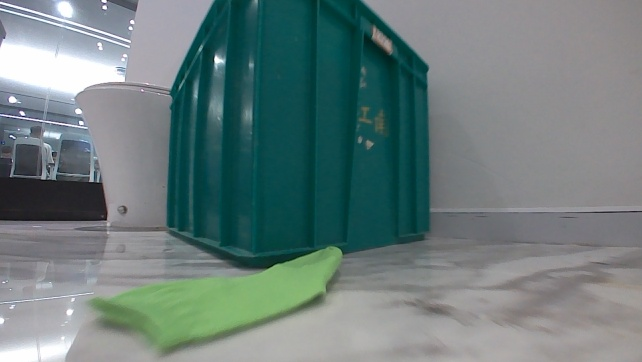socks: (87, 240, 345, 355)
toilet: (70, 81, 173, 230)
